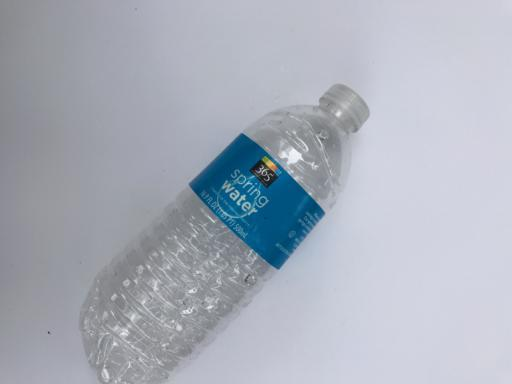PET: (77, 82, 370, 383)
plastic: (77, 82, 370, 383)
spring-water: (77, 82, 370, 383)
water: (77, 82, 370, 383)
